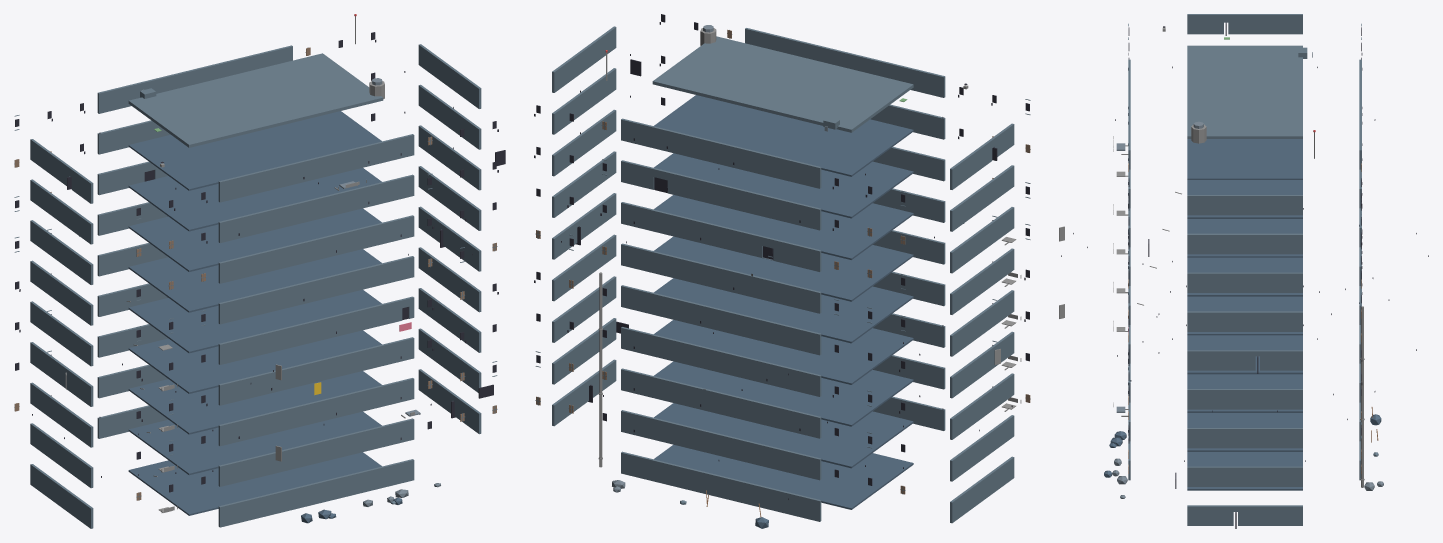
Rendered from building_mid_right.glb.
3 views of the same model, side by side, from view 1: azimuth 30°, elevation 25°; view 2: azimuth 150°, elevation 25°; view 3: azimuth 270°, elevation 25° (orthographic). The views are drawn at different scales.
Parts seen in each view (by area): view 1: BuildingMesh; view 2: BuildingMesh; view 3: BuildingMesh.
Part boxes in pixels (<box>): BuildingMesh: <box>14,14,505,528</box>; BuildingMesh: <box>534,14,1030,528</box>; BuildingMesh: <box>1059,14,1428,528</box>.
Size of the model in its own units: 10.6 by 9.81 by 8.64.
